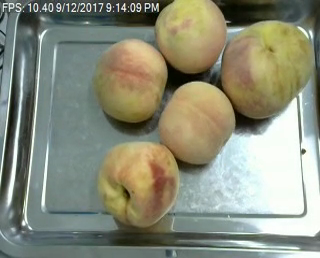Peach: (219, 20, 314, 119), (95, 140, 181, 227), (93, 36, 167, 124), (157, 83, 234, 165), (153, 0, 227, 73)
